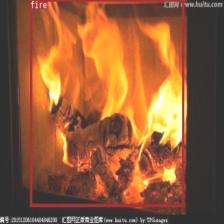fire: (29, 0, 183, 206)
